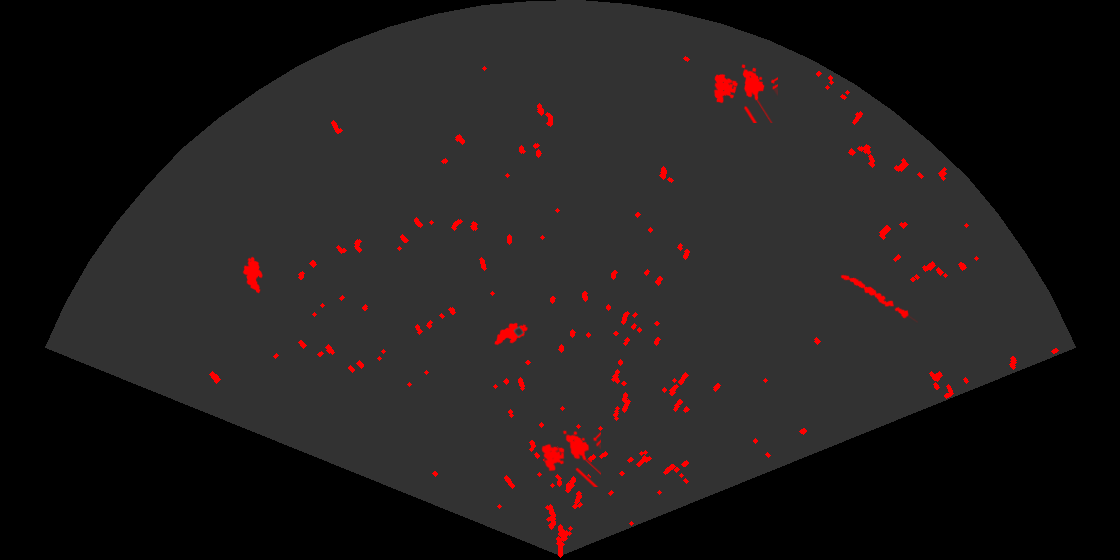AUV: (493, 321, 530, 347), (241, 255, 264, 295)
cage: (712, 63, 778, 123), (540, 429, 601, 487)
chain: (839, 273, 918, 324)
